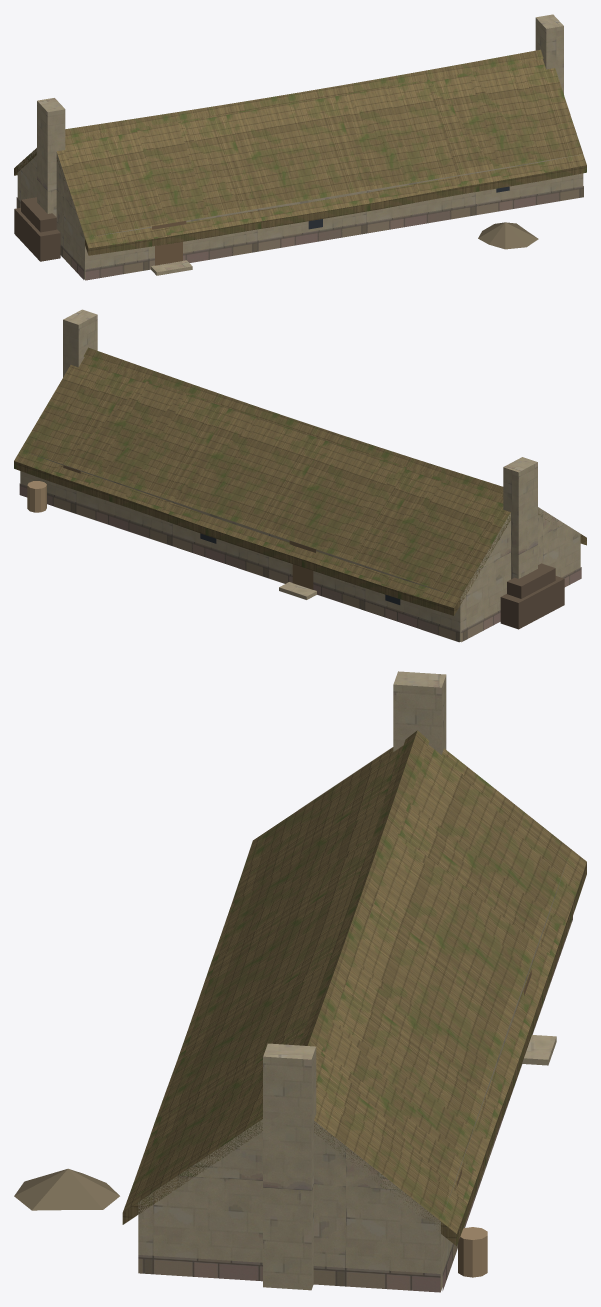
The picture shows the model from 3 angles, top to bottom: view 1: azimuth 30°, elevation 25°; view 2: azimuth 150°, elevation 25°; view 3: azimuth 270°, elevation 25°; orthographic projection. The views are drawn at different scales.
Visible parts, largest first — view 1: b001077_thatch, b001077_wall, b001077_base, b001077_peat, b001077_dung, b001077_oak; view 2: b001077_thatch, b001077_wall, b001077_base, b001077_peat, b001077_oak, b001077_wood; view 3: b001077_thatch, b001077_wall, b001077_base, b001077_dung, b001077_wood.
Part boxes in pixels (<box>): b001077_thatch: <box>14,49,586,255</box>; b001077_wall: <box>17,14,583,279</box>; b001077_base: <box>16,186,583,280</box>; b001077_peat: <box>14,197,60,261</box>; b001077_dung: <box>478,222,538,249</box>; b001077_oak: <box>152,221,186,265</box>; b001077_thatch: <box>14,347,586,615</box>; b001077_wall: <box>20,309,580,641</box>; b001077_base: <box>19,483,581,642</box>; b001077_peat: <box>500,563,564,629</box>; b001077_oak: <box>63,465,389,589</box>; b001077_wood: <box>27,481,46,512</box>; b001077_thatch: <box>122,730,586,1246</box>; b001077_wall: <box>138,671,566,1291</box>; b001077_base: <box>138,916,572,1292</box>; b001077_dung: <box>14,1168,119,1210</box>; b001077_wood: <box>458,1227,487,1277</box>.
Size of the model in its own units: 19.65 by 5.23 by 11.77.
8 materials, 3 textured.
